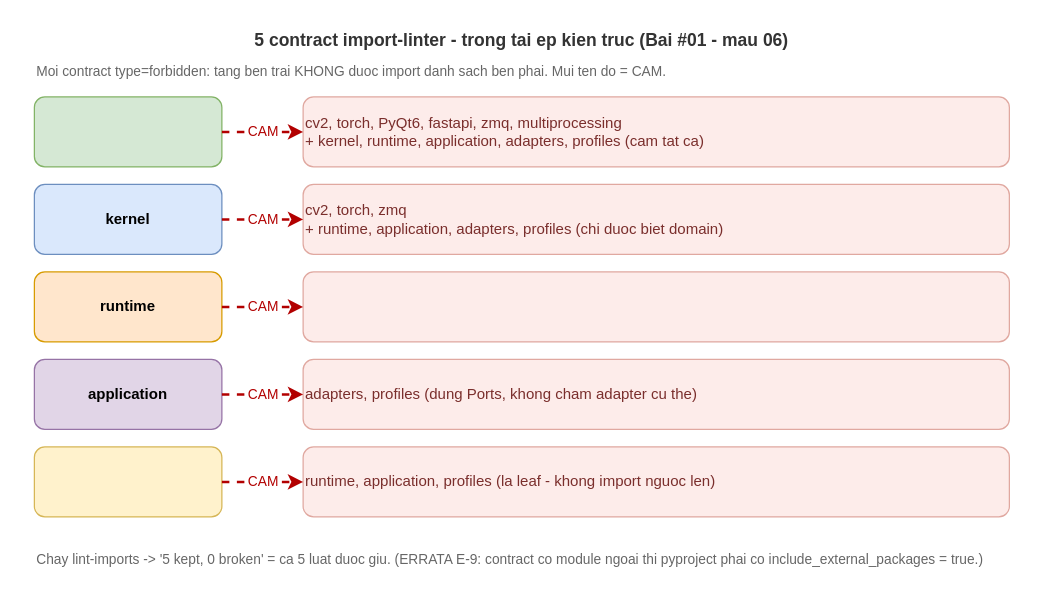
The diagram is 1043 pixels wide and 605 high, and some of its shapes have lost their labels. Here are the shapes that lost their labels. From the top down, the box of each, then its label:
(33, 96, 222, 167): domain
(302, 271, 1009, 342): application, adapters, profiles
(33, 446, 222, 517): adapters
